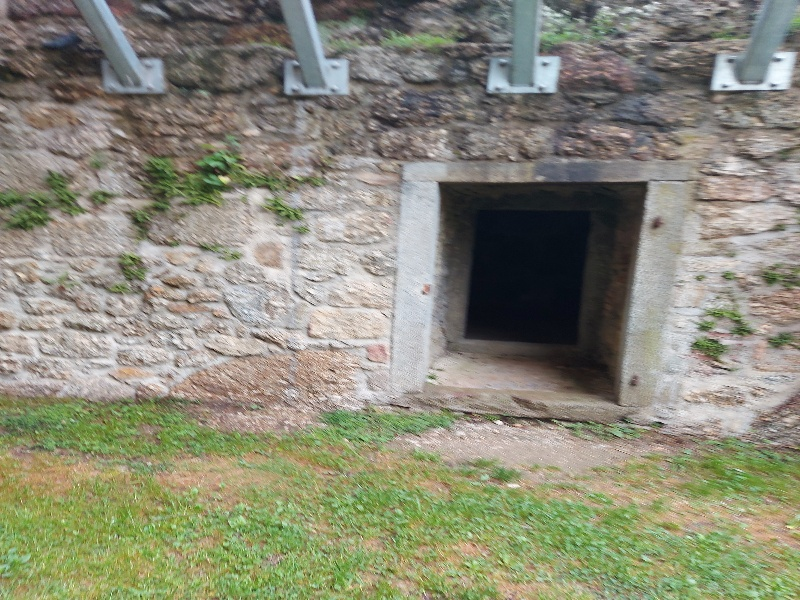door1: (388, 146, 699, 452)
